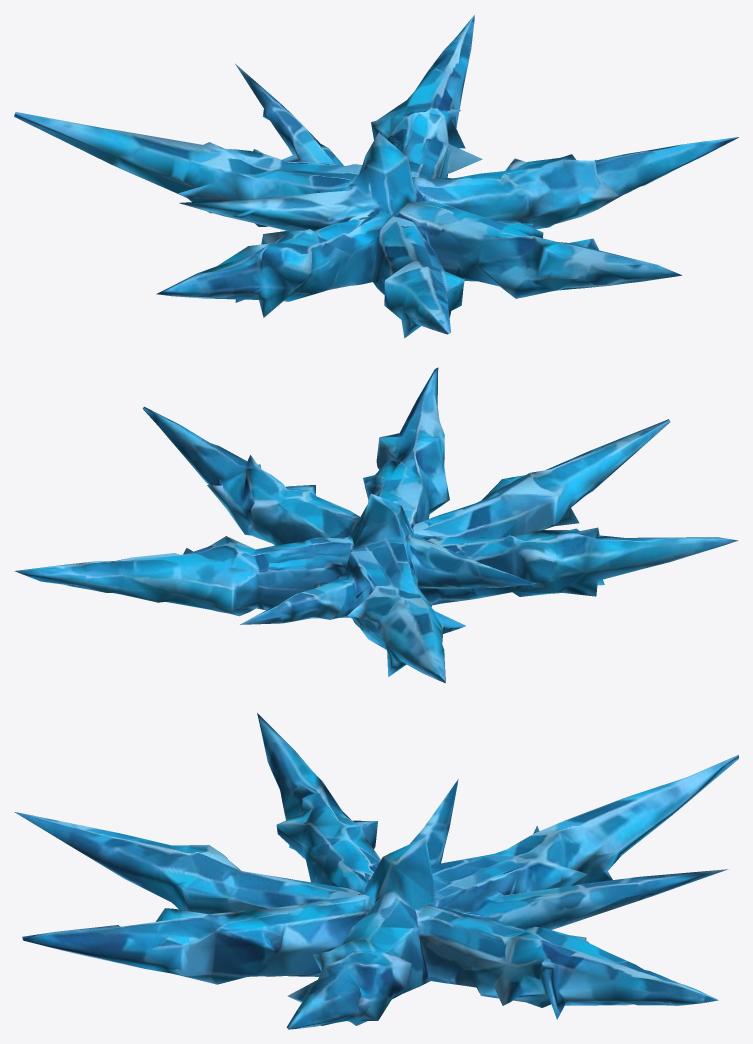
Rendered from skill_iceshard_c-mtGnz0pb.glb.
3 renders of one model, top to bottom at view 1: azimuth 30°, elevation 25°; view 2: azimuth 150°, elevation 25°; view 3: azimuth 270°, elevation 25°, orthographic. The views are drawn at different scales.
Visible parts, largest first — view 1: tripo_node_b6f76d7c-7fa4-4764-afc7-f2d57ff2e1d3; view 2: tripo_node_b6f76d7c-7fa4-4764-afc7-f2d57ff2e1d3; view 3: tripo_node_b6f76d7c-7fa4-4764-afc7-f2d57ff2e1d3.
Boxes of the visible parts, bbox=[...] form: tripo_node_b6f76d7c-7fa4-4764-afc7-f2d57ff2e1d3: bbox=[14, 15, 738, 338]; tripo_node_b6f76d7c-7fa4-4764-afc7-f2d57ff2e1d3: bbox=[14, 367, 738, 683]; tripo_node_b6f76d7c-7fa4-4764-afc7-f2d57ff2e1d3: bbox=[14, 713, 738, 1029].
Size of the model in its own units: 1 by 0.1956 by 0.9655.
Materials: 1 (1 with a texture image).
